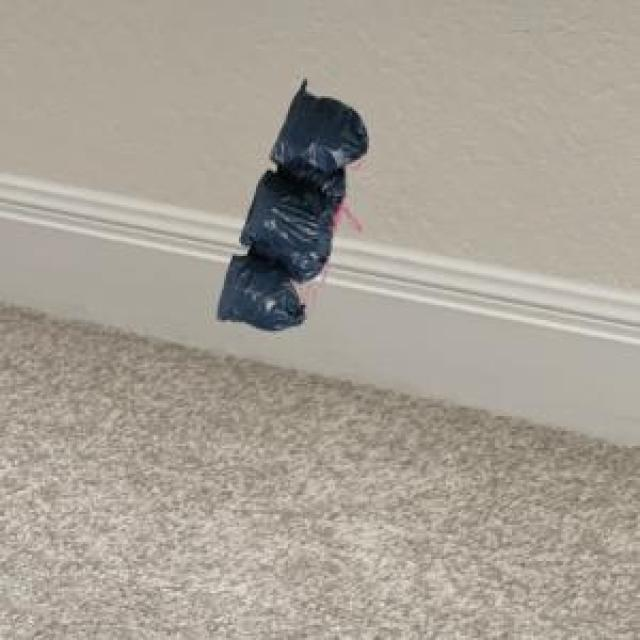Vinyl: (218, 80, 369, 329), (0, 1, 200, 34)
